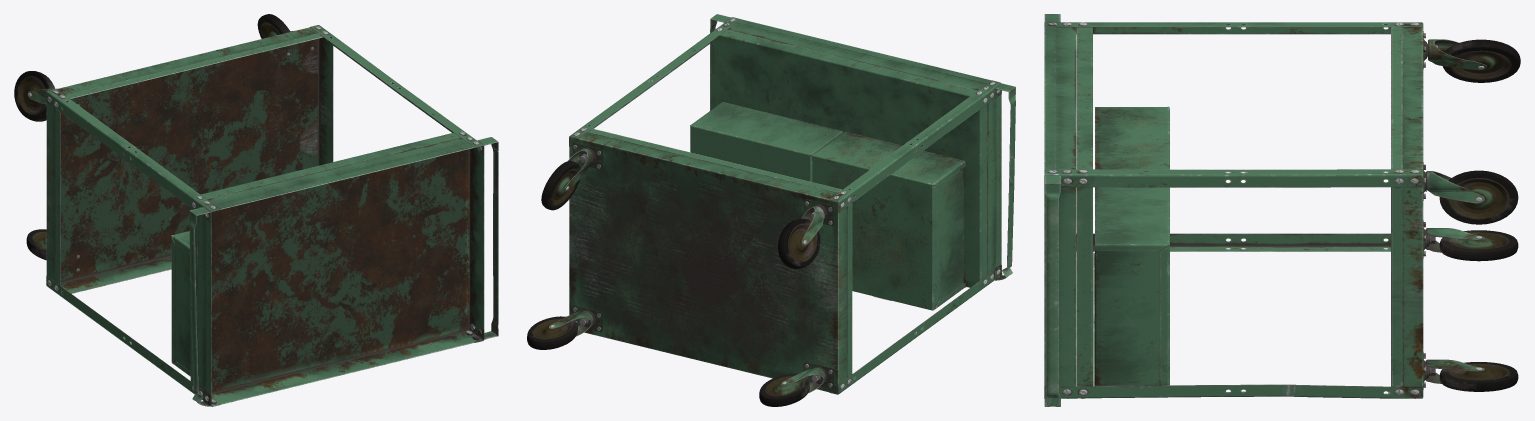
Rendered from tool_cart.obj.
3 renders of one model, left to right at view 1: azimuth 30°, elevation 25°; view 2: azimuth 150°, elevation 25°; view 3: azimuth 270°, elevation 25°, orthographic. The views are drawn at different scales.
Bounding box in the file's own units: 0.7 × 0.45 × 0.82.
1 material, 1 textured.
